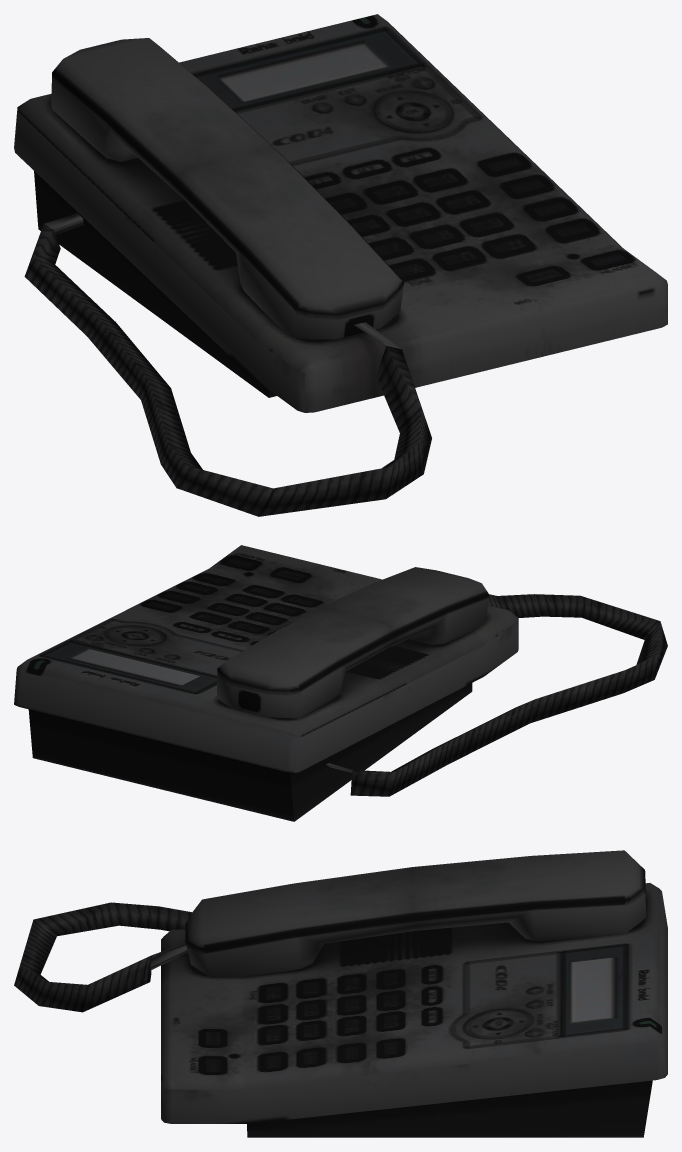
Rendered from com_telephone_desk_lod1.glb.
The picture shows the model from 3 angles, top to bottom: view 1: azimuth 30°, elevation 25°; view 2: azimuth 150°, elevation 25°; view 3: azimuth 270°, elevation 25°; orthographic projection. The views are drawn at different scales.
Visible parts, largest first — view 1: surf0; view 2: surf0; view 3: surf0.
Boxes of the visible parts, x1,y1,x2,y2 form: surf0: [14, 14, 667, 516]; surf0: [14, 545, 667, 821]; surf0: [14, 850, 667, 1137].
Size of the model in its own units: 14.59 by 4.71 by 18.52.
